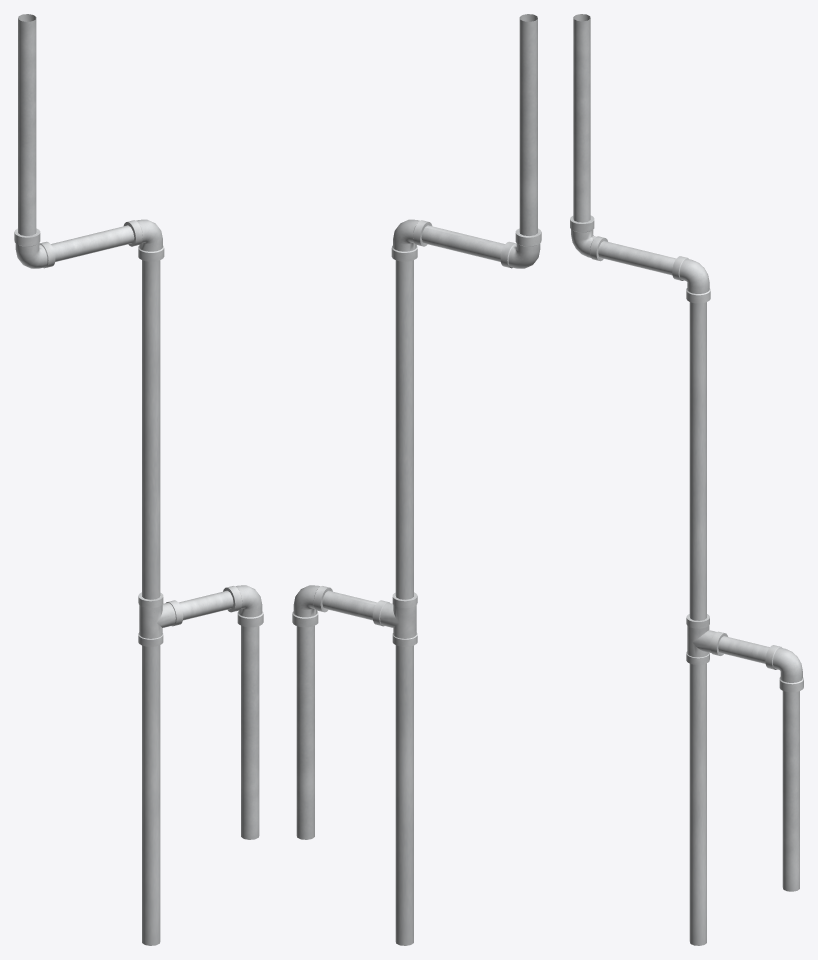
File: pipe_setup3.fbx
3 renders of one model, left to right at view 1: azimuth 30°, elevation 25°; view 2: azimuth 150°, elevation 25°; view 3: azimuth 330°, elevation 25°, orthographic. The views are drawn at different scales.
Parts seen in each view (by area): view 1: pCylinder14, pCylinder21, pCylinder26, polySurface8, pCylinder16, pCylinder13, pCylinder25, pCylinder17, polySurface9; view 2: pCylinder14, pCylinder21, pCylinder26, polySurface8, pCylinder16, pCylinder13, pCylinder25, pCylinder17, polySurface9; view 3: pCylinder14, pCylinder21, pCylinder26, pCylinder16, polySurface8, pCylinder25, pCylinder17, pCylinder13, polySurface9.
Part boxes in pixels (x1,y1,x2,y2): pCylinder14: (142, 260, 160, 945); pCylinder21: (18, 14, 36, 235); pCylinder26: (241, 625, 259, 839); polySurface8: (138, 592, 183, 646); pCylinder16: (51, 225, 134, 261); pCylinder13: (14, 228, 55, 268); pCylinder25: (223, 585, 263, 627); pCylinder17: (123, 219, 164, 261); polySurface9: (178, 590, 233, 620); pCylinder14: (395, 260, 413, 945); pCylinder21: (519, 14, 537, 235); pCylinder26: (296, 625, 314, 839); polySurface8: (372, 592, 417, 646); pCylinder16: (421, 225, 504, 261); pCylinder13: (500, 228, 541, 268); pCylinder25: (292, 585, 332, 627); pCylinder17: (391, 219, 432, 261); polySurface9: (322, 590, 377, 620); pCylinder14: (689, 302, 706, 945); pCylinder21: (573, 14, 590, 222); pCylinder26: (782, 691, 799, 891); pCylinder16: (598, 241, 676, 275); polySurface8: (686, 614, 727, 664); pCylinder25: (765, 645, 803, 692); pCylinder17: (672, 256, 710, 303); pCylinder13: (570, 215, 607, 261); polySurface9: (718, 636, 769, 663).
Size of the model in its own units: 13.7 by 50.84 by 1.26.
Materials: 3 (3 with a texture image).
